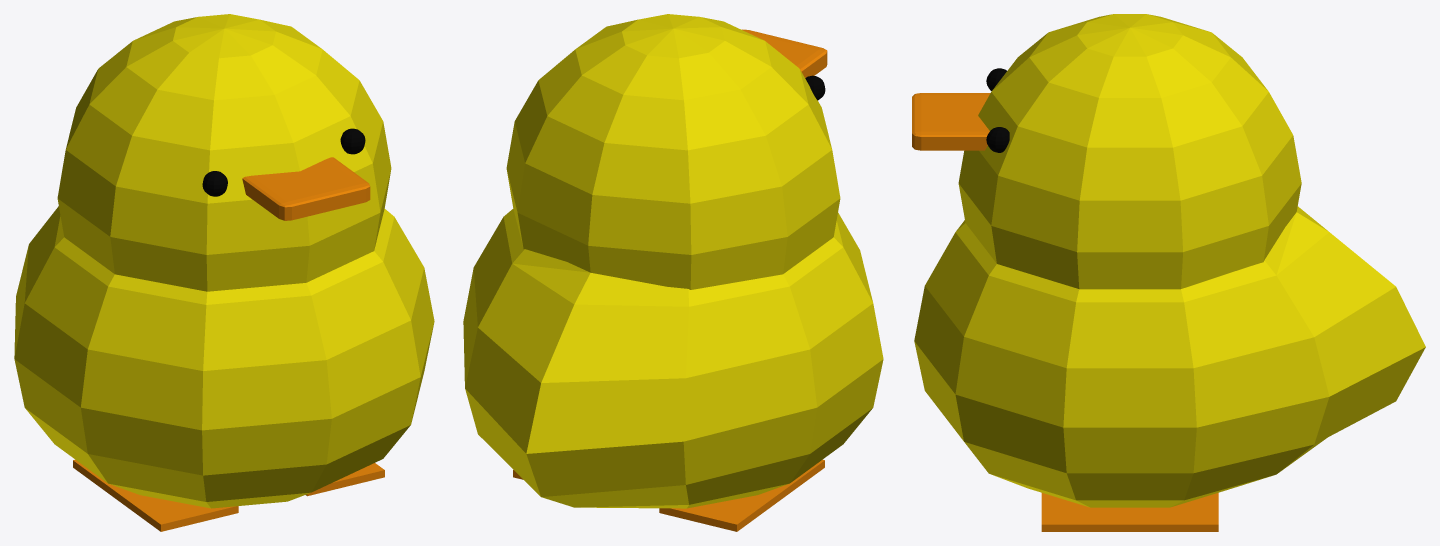
File: peep.fbx
3 renders of one model, left to right at view 1: azimuth 30°, elevation 25°; view 2: azimuth 150°, elevation 25°; view 3: azimuth 270°, elevation 25°, orthographic.
Visible parts, largest first — view 1: Sphere.010, Sphere.007; view 2: Sphere.010; view 3: Sphere.010, Sphere.007.
Part boxes in pixels (x1,y1,x2,y2): Sphere.010: (14,14,434,531); Sphere.007: (202,128,365,196); Sphere.010: (463,14,883,531); Sphere.010: (912,14,1425,531); Sphere.007: (986,68,1009,152).
Size of the model in its own units: 126 by 151 by 158.
